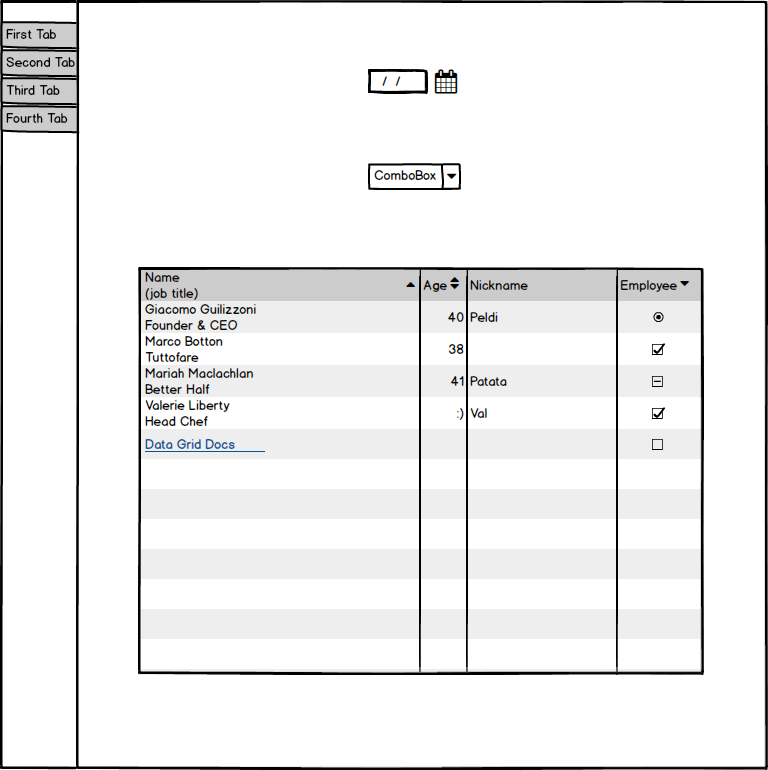date_picker: (358, 56, 466, 102)
select_box: (363, 157, 466, 196)
sidebar: (4, 11, 84, 139)
table: (127, 263, 713, 684)
